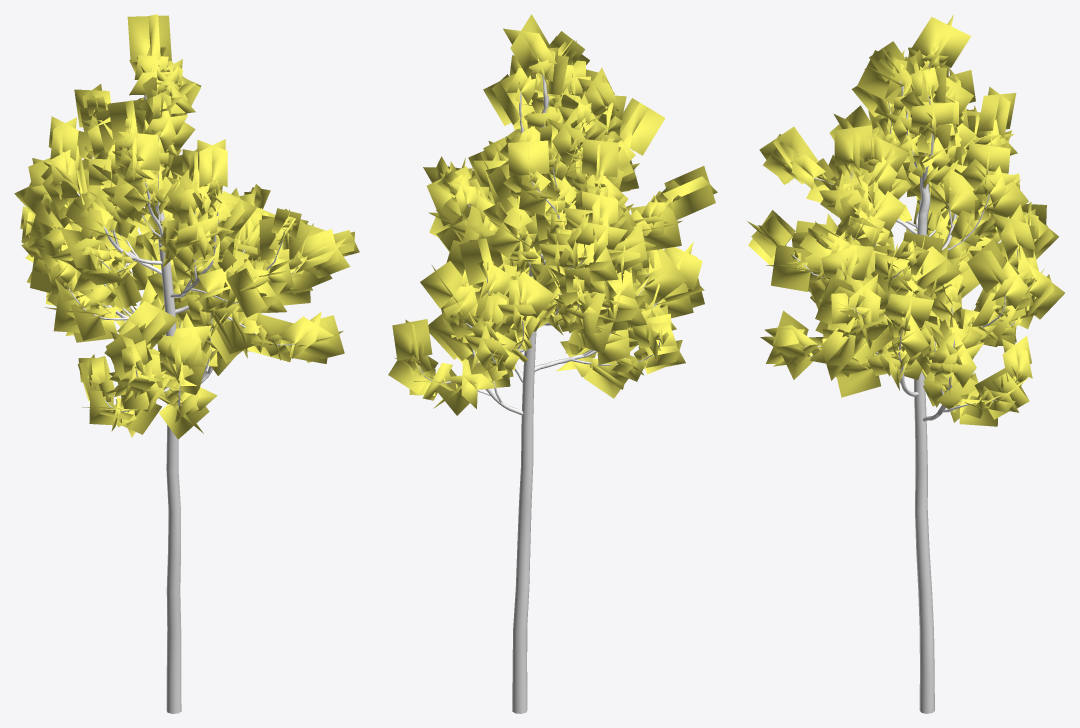
Rendered from aspen_medium_v0_lod0.glb.
The picture shows the model from 3 angles, left to right: view 1: azimuth 30°, elevation 25°; view 2: azimuth 150°, elevation 25°; view 3: azimuth 270°, elevation 25°; orthographic projection. The views are drawn at different scales.
Parts seen in each view (by area): view 1: Leaves, Branches; view 2: Leaves, Branches; view 3: Leaves, Branches.
Part boxes in pixels (box(x1,y1,x2,y2)): Leaves: box(14, 14, 359, 439); Branches: box(67, 94, 301, 713); Leaves: box(388, 14, 717, 415); Branches: box(418, 74, 659, 713); Leaves: box(747, 14, 1064, 426); Branches: box(792, 62, 1028, 713).
Size of the model in its own units: 31.97 by 71.58 by 30.12.
